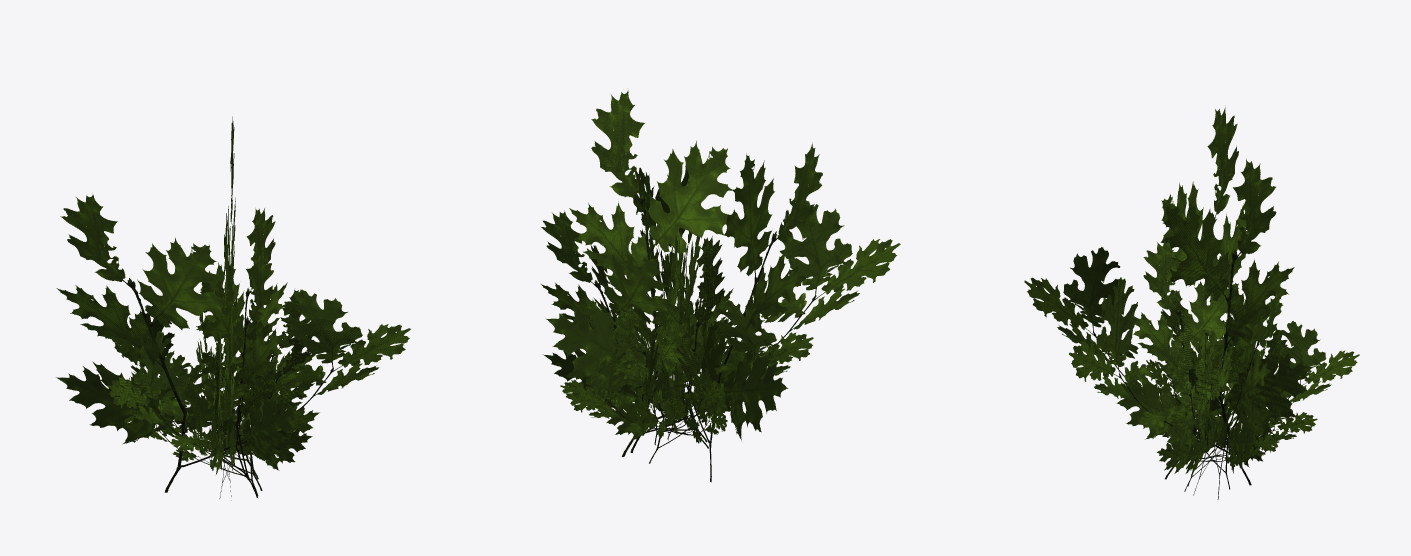
Rendered from bush 1.FBX.
3 views of the same model, side by side, from view 1: azimuth 30°, elevation 25°; view 2: azimuth 150°, elevation 25°; view 3: azimuth 270°, elevation 25° (orthographic). The views are drawn at different scales.
Parts seen in each view (by area): view 1: bush 1; view 2: bush 1; view 3: bush 1.
Part boxes in pixels (bbox=[...]): bush 1: bbox=[56, 116, 410, 500]; bush 1: bbox=[541, 88, 900, 482]; bush 1: bbox=[1024, 107, 1359, 499].
Bounding box in the file's own units: 44225 × 56666 × 49845.
